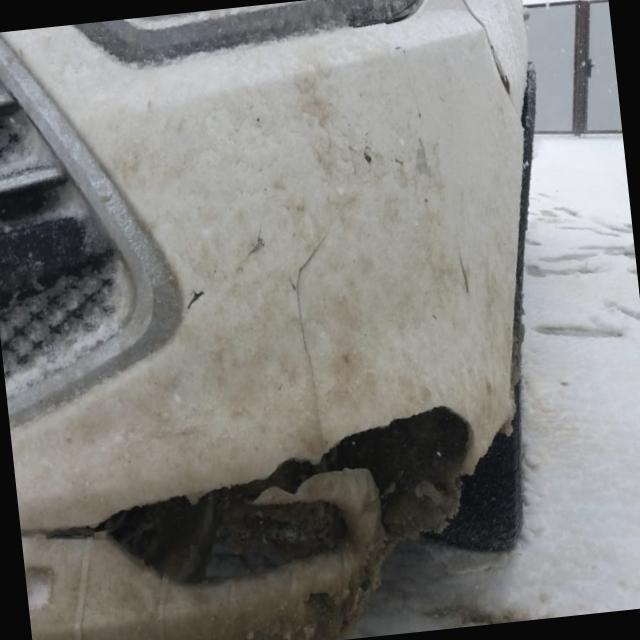Dechirure: (280, 231, 345, 468), (178, 227, 270, 316), (451, 239, 476, 305)
